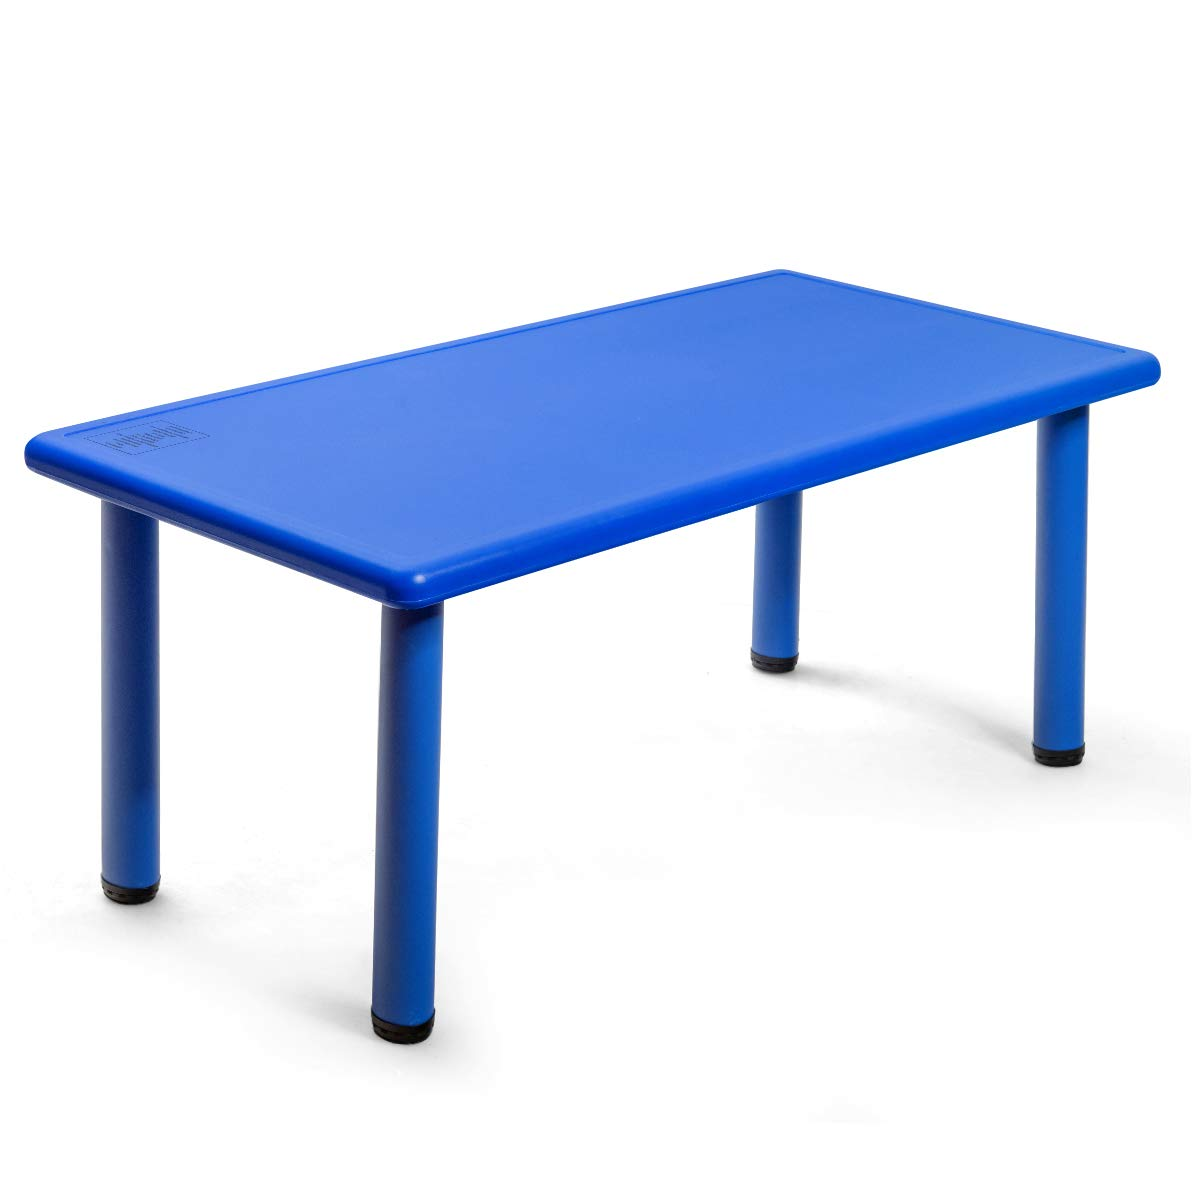m01: (24, 267, 1162, 1044)
